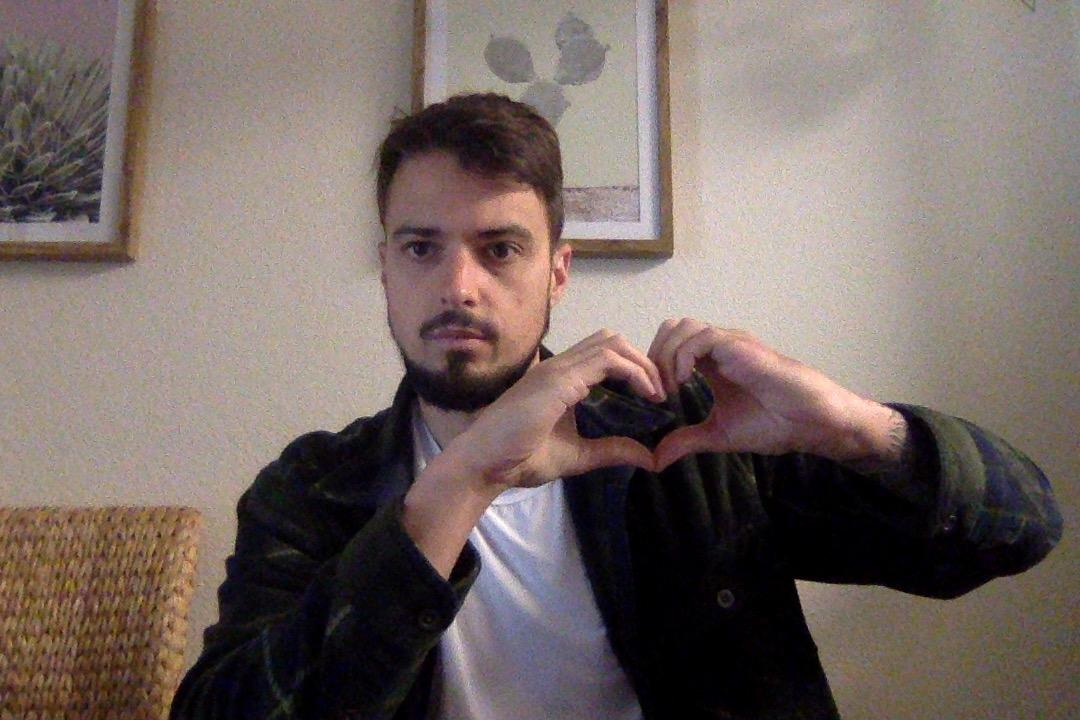Heart: (476, 319, 873, 516)
